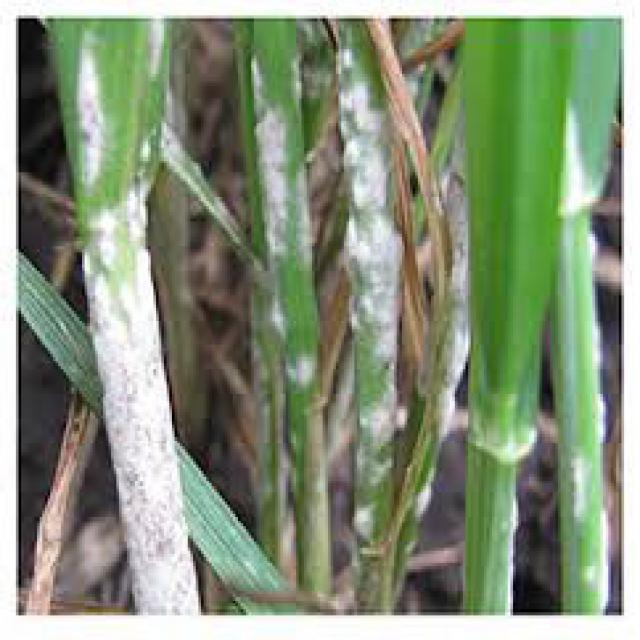wheat-powdery-mildew: (50, 22, 190, 615), (82, 145, 201, 618), (339, 22, 423, 615)
